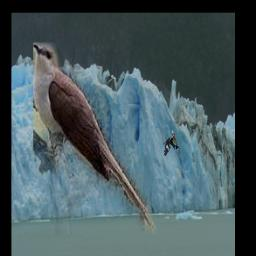Cuckoo: (34, 42, 157, 235)
Woodpecker: (162, 133, 179, 156)
